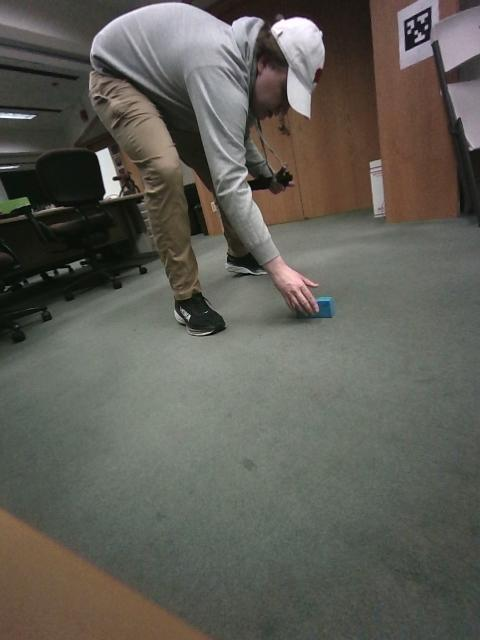block: (262, 359, 321, 429)
